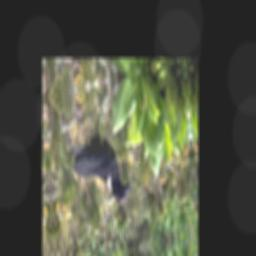Crow: (69, 107, 133, 218)
